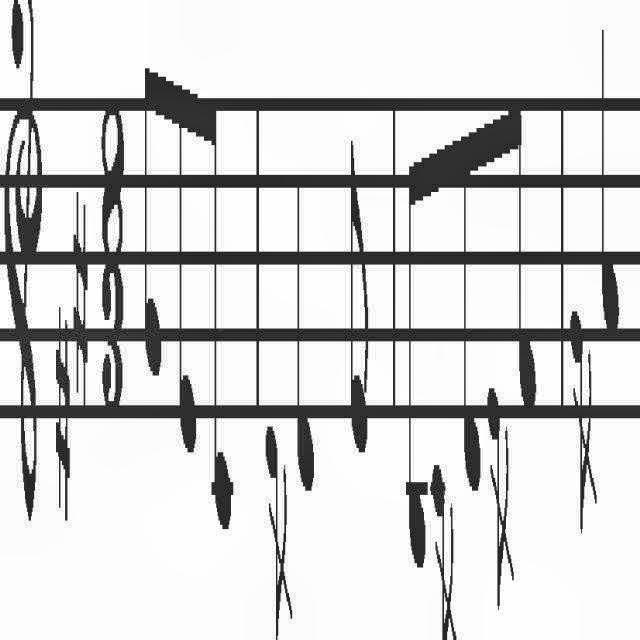Bass-clef: (0, 1, 52, 560)
Diez: (48, 312, 72, 548), (72, 188, 92, 414)
Eighth-note: (206, 80, 234, 556), (170, 80, 202, 464), (342, 144, 378, 484), (514, 65, 542, 437), (458, 100, 482, 532), (406, 122, 426, 606), (140, 53, 163, 395)
Quarter-note: (294, 133, 320, 531), (598, 1, 622, 372)
